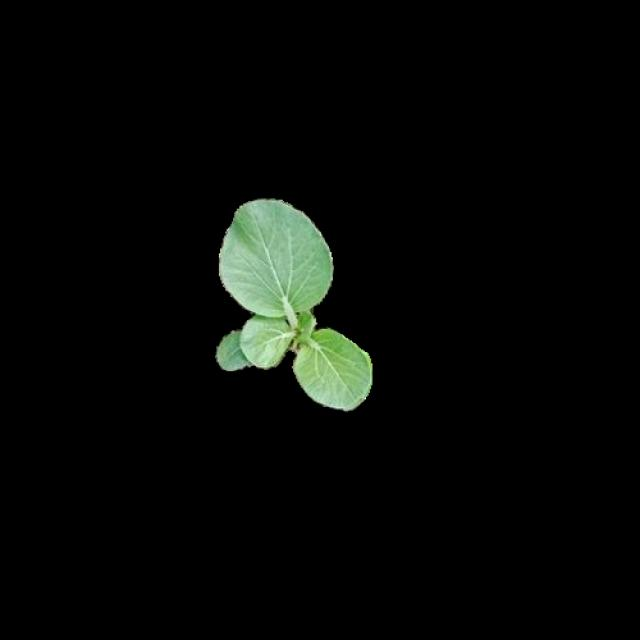healthy: (210, 198, 372, 408)
not-mature: (210, 200, 372, 410)
